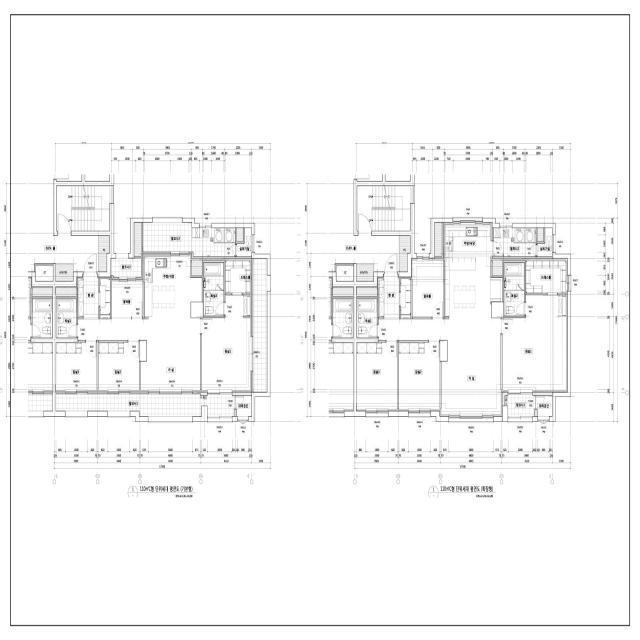space_balconi: (56, 394, 234, 416), (143, 223, 235, 257), (253, 259, 267, 392), (494, 228, 536, 257), (505, 394, 535, 416), (111, 259, 141, 277)
space_bedroom: (502, 295, 568, 392), (202, 318, 252, 392), (399, 342, 440, 411), (357, 342, 397, 411), (56, 342, 97, 392), (98, 342, 139, 392)
space_dressroom: (225, 259, 252, 316), (526, 259, 568, 293)
space_elevator_hall: (28, 179, 98, 272), (335, 180, 399, 272)
space_front: (77, 274, 112, 319), (378, 274, 411, 319)
space_kitchen: (443, 223, 503, 318), (143, 254, 202, 318)
space_living_room: (378, 318, 502, 416), (78, 318, 200, 392)
space_other: (411, 258, 443, 319), (112, 279, 143, 319), (399, 236, 410, 272), (99, 236, 110, 272), (356, 264, 374, 281), (537, 396, 552, 416), (237, 396, 252, 416), (56, 264, 73, 281), (336, 266, 354, 281), (36, 266, 53, 281), (435, 223, 442, 257), (134, 223, 141, 257), (56, 287, 77, 296), (492, 259, 503, 276), (357, 287, 377, 296), (192, 259, 202, 276), (537, 228, 544, 242), (237, 228, 243, 242)
space_outdoor_room: (237, 228, 252, 257), (537, 228, 552, 257)
space_staircase: (57, 186, 110, 231), (357, 186, 410, 231)
space_toilet: (504, 262, 525, 316), (203, 262, 224, 316), (56, 298, 77, 338), (357, 298, 377, 338)
